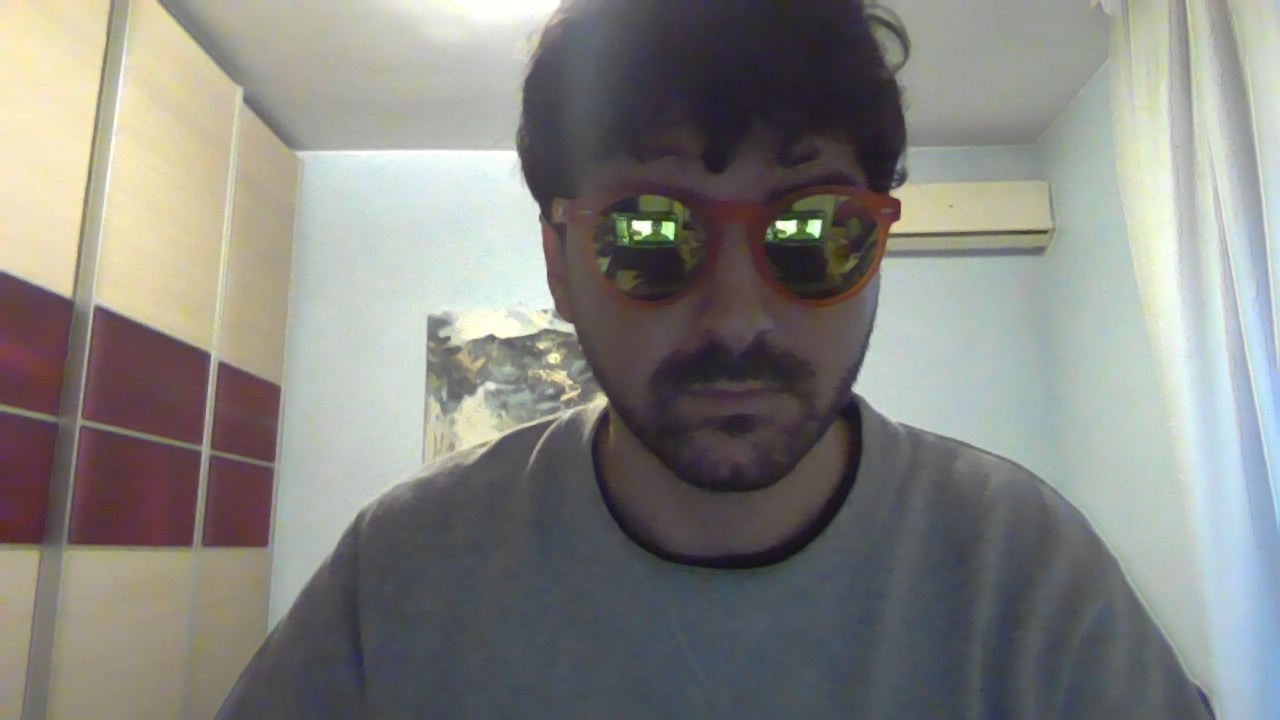Glasses: (520, 169, 929, 327)
